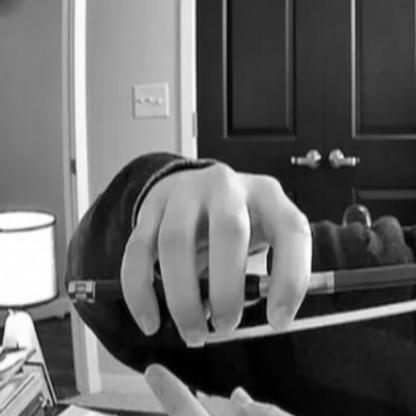good: (115, 167, 323, 354)
